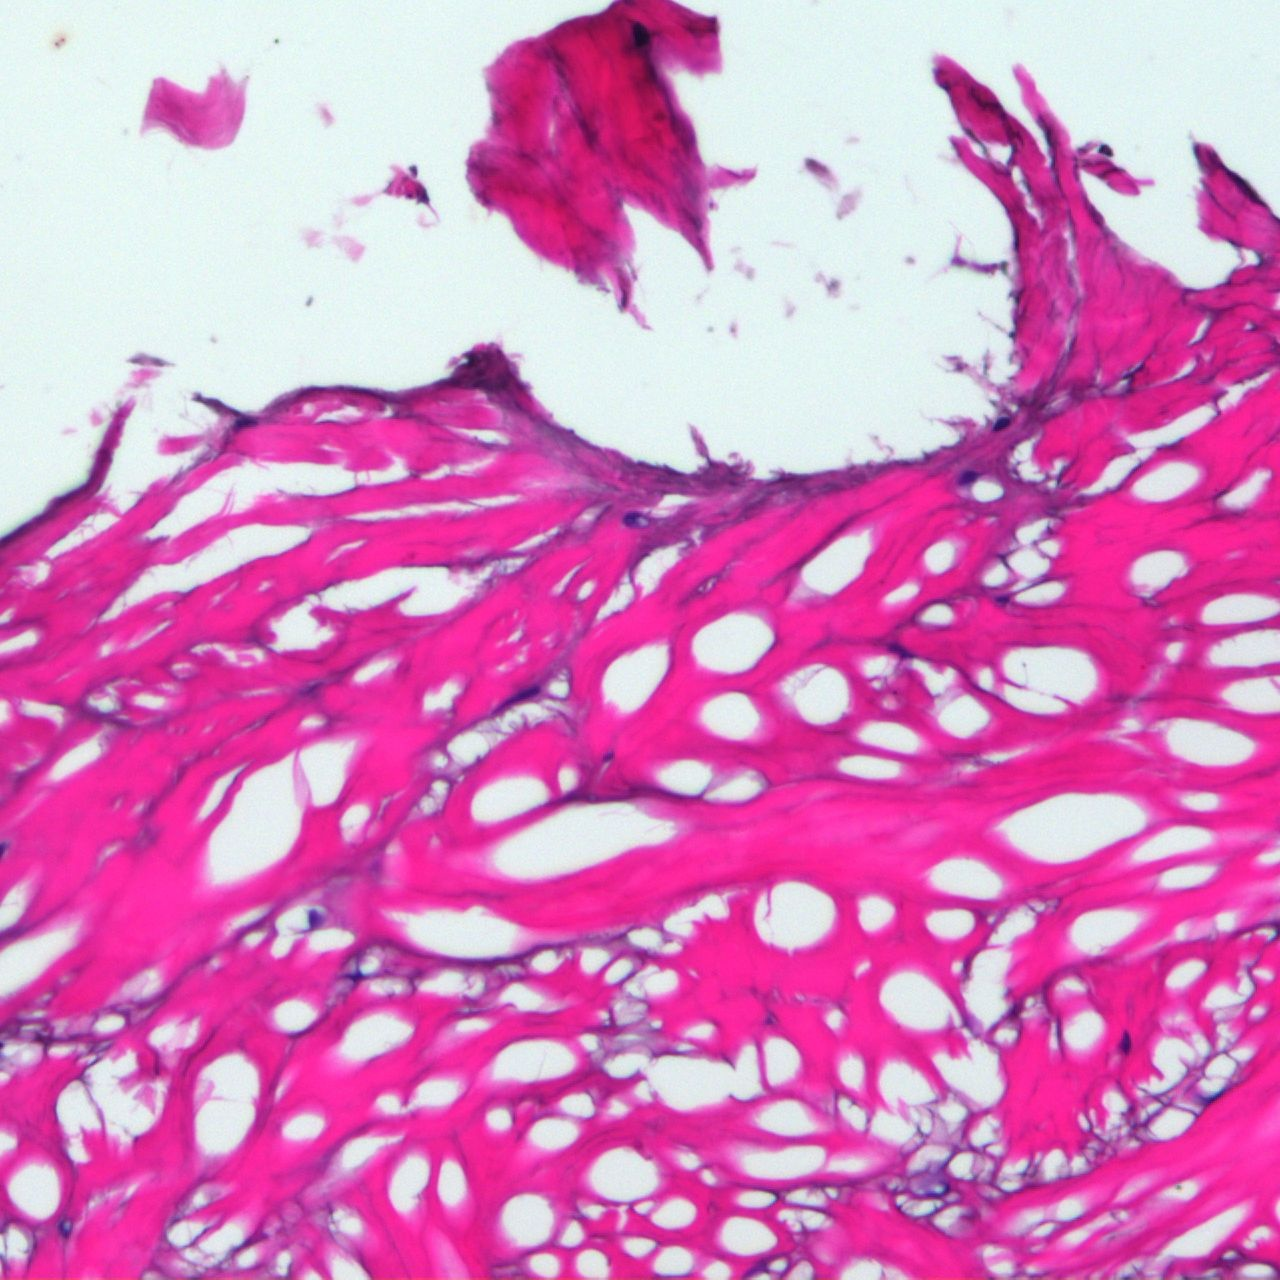dust: (52, 35, 66, 48), (274, 38, 279, 43)
nucleus-HE: (888, 640, 913, 662), (232, 413, 256, 433), (955, 467, 978, 486), (990, 414, 1012, 433), (308, 908, 322, 930), (1121, 1029, 1131, 1053), (995, 595, 1009, 602)
